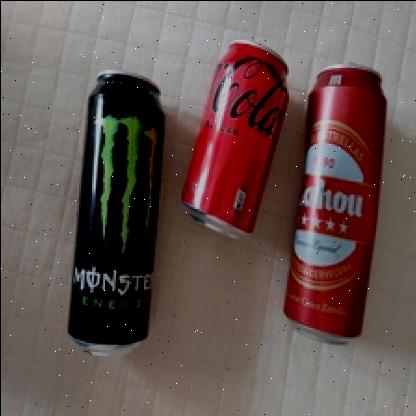Can: (278, 58, 395, 347), (64, 68, 168, 359), (173, 32, 300, 240)
